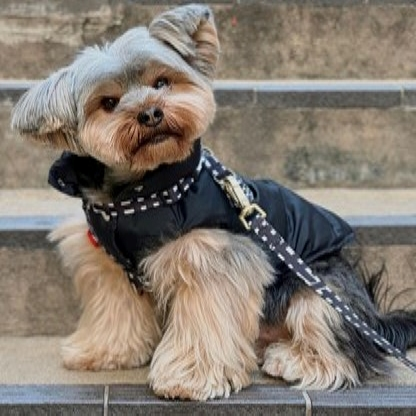yorkshire: (13, 3, 412, 396)
